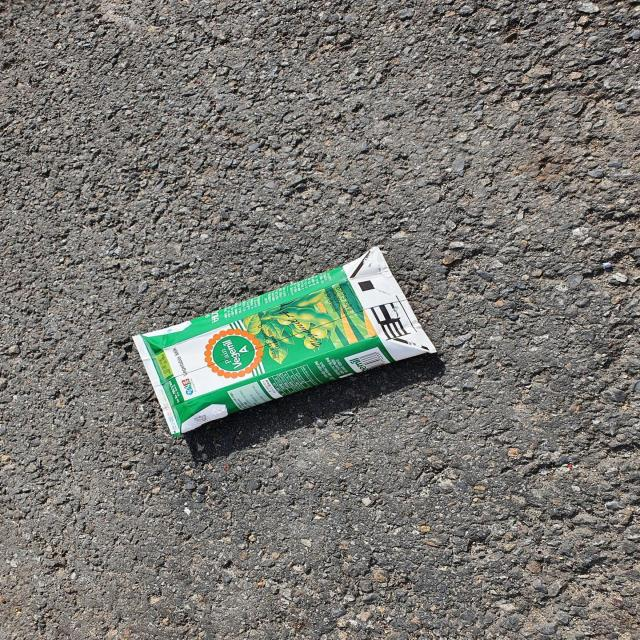paperpack: (132, 247, 437, 437)
